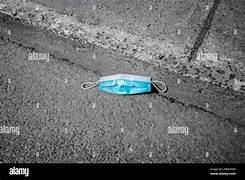Mask: (81, 74, 166, 94)
